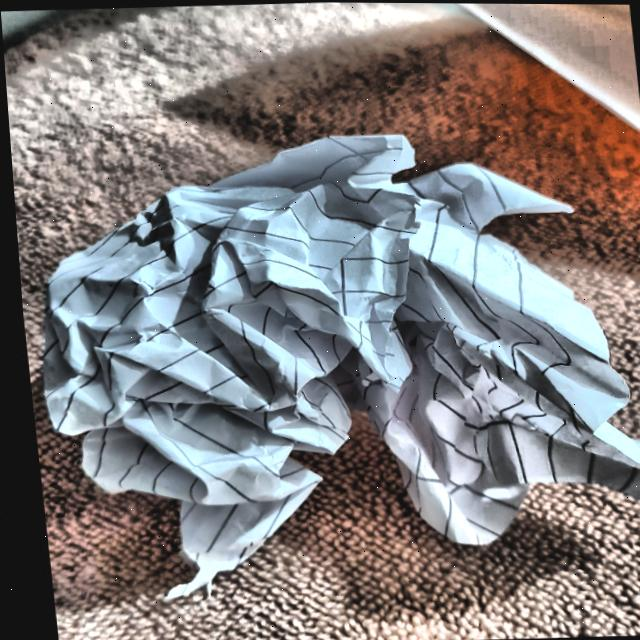paper: (7, 119, 640, 587)
